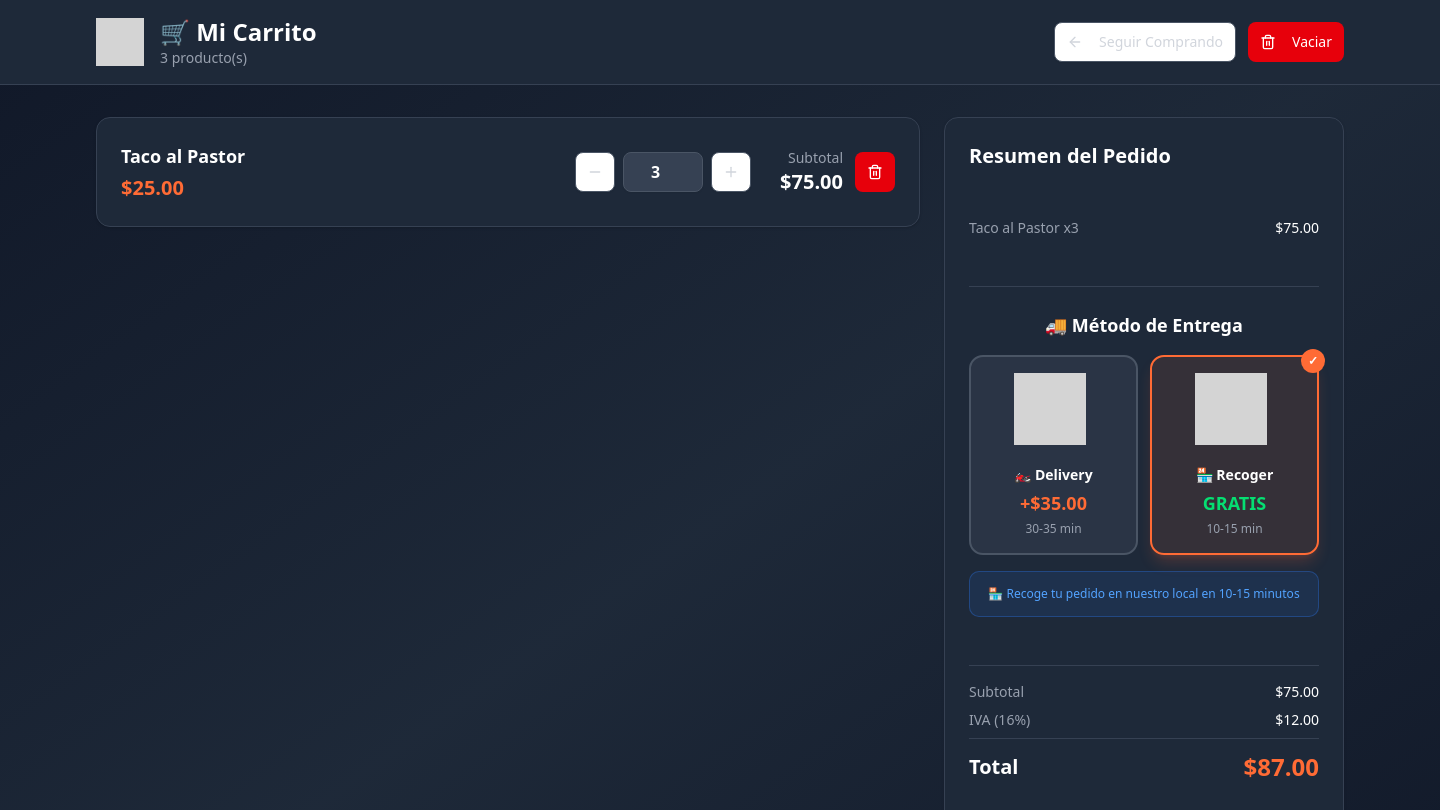
Test case: CartPage Component › Quantity Controls › should increment quantity when plus button clicked
The width and height of the screenshot is (1440, 810).
Expected: the heading "Taco al Pastor" is shown, [121,144,245,168]
Click the 4th button at point(731, 172), box [711,152,751,192]
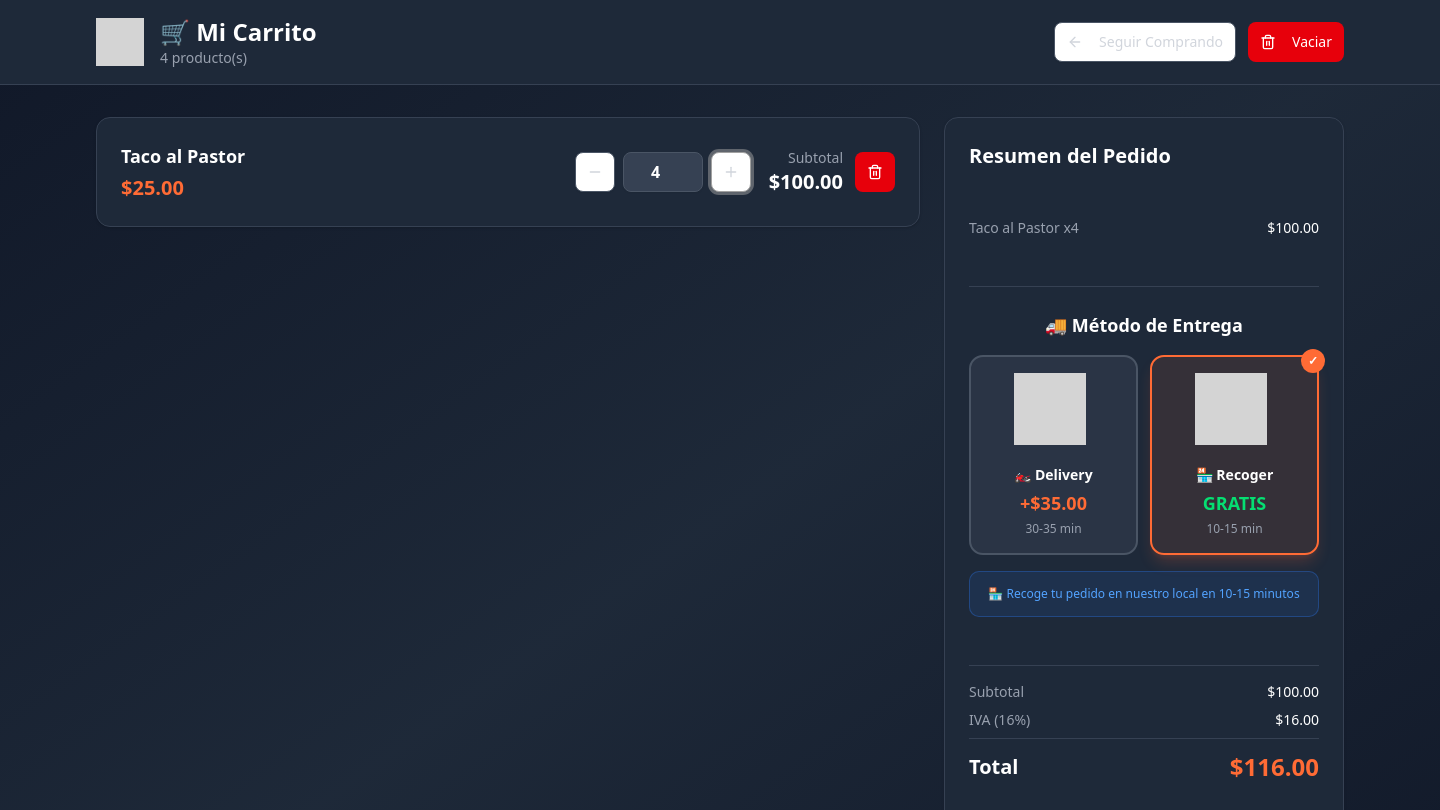
Now the number field holds "4", box [623,152,703,192]
